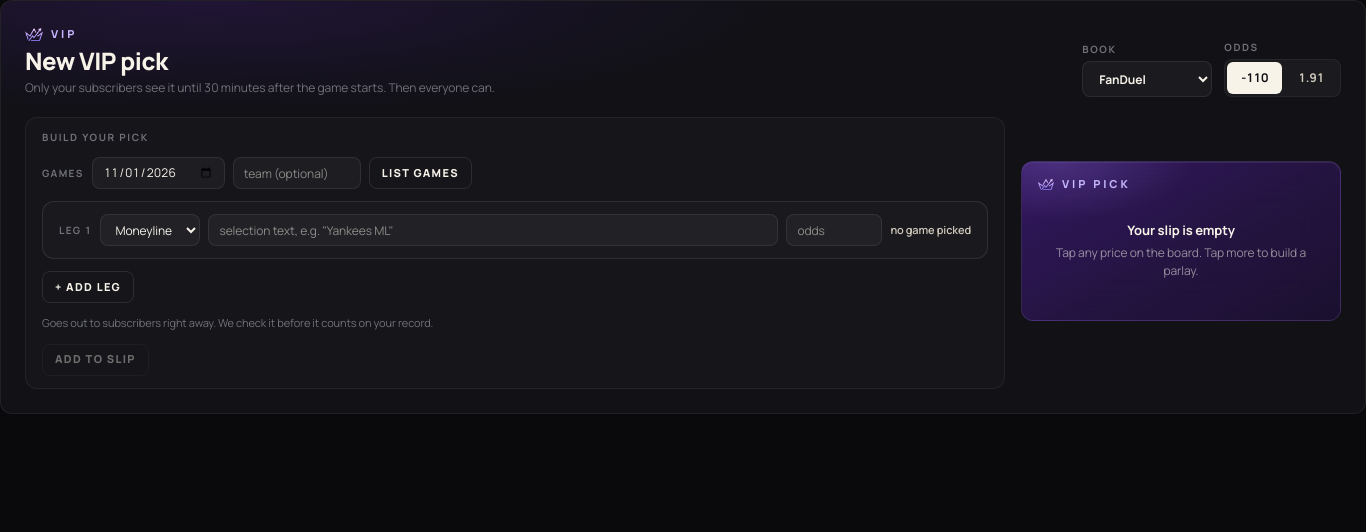
Test: PickBuilder › adds an off-board leg that posts the editor's fields
Click the button "List games": (420, 173) [369,157,472,189]
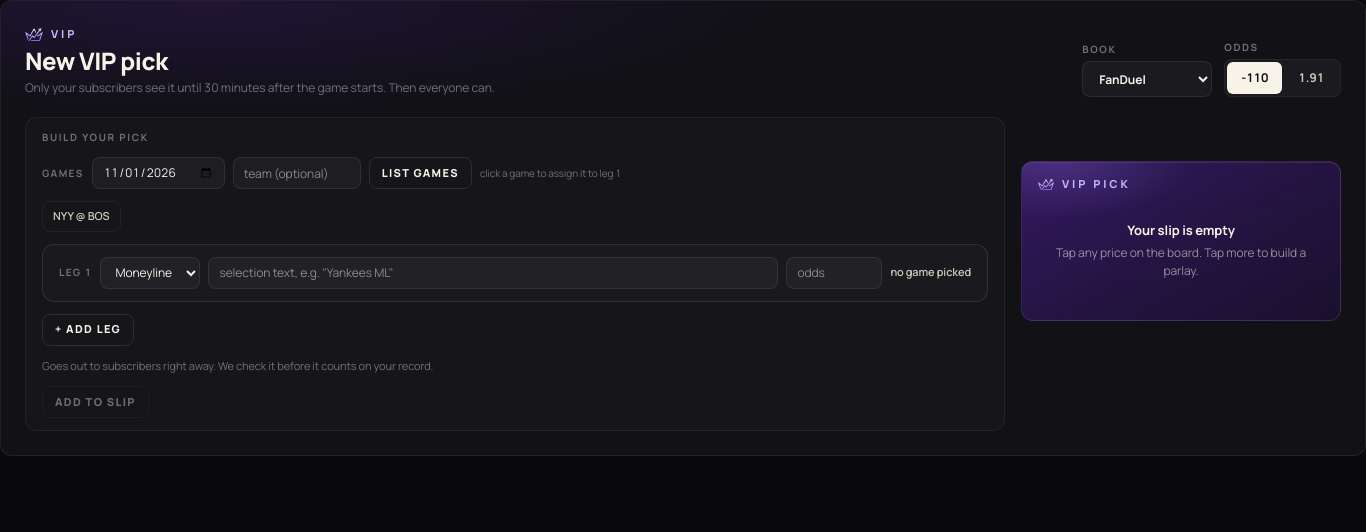
Click the button "NYY @ BOS": (81, 216) [42,201,120,232]
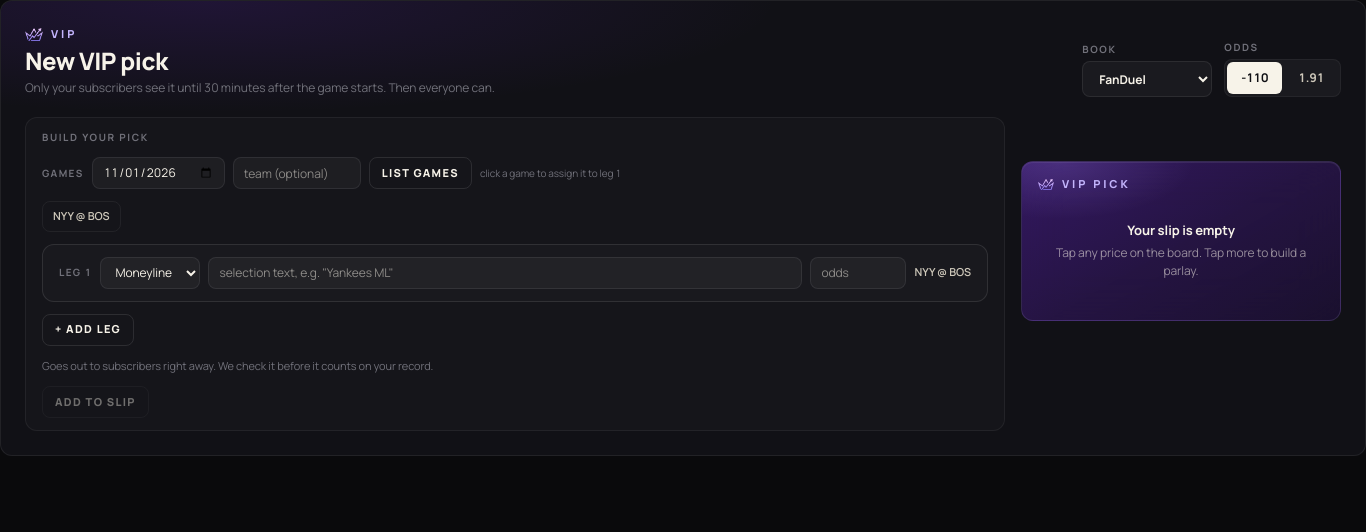
In the field named "Leg 1 selection": (505, 272) [208,256,802,288], type "NYY"
In the field named "Leg 1 odds": (858, 272) [810,256,906,288], type "+120"
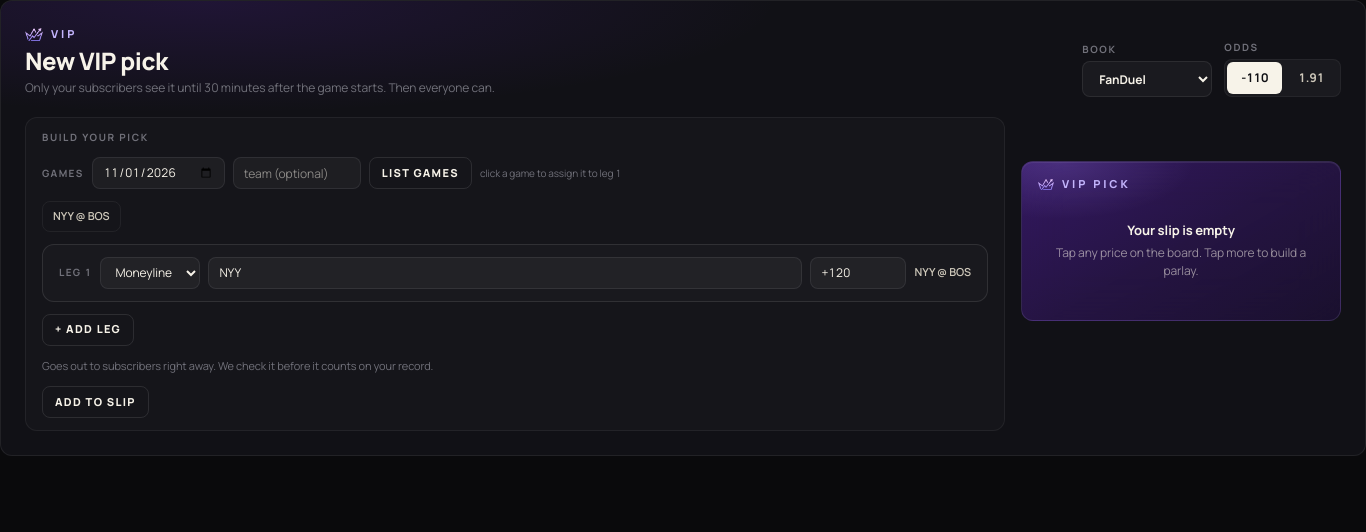
Click the button "Add to slip": (95, 402) [42,386,149,418]
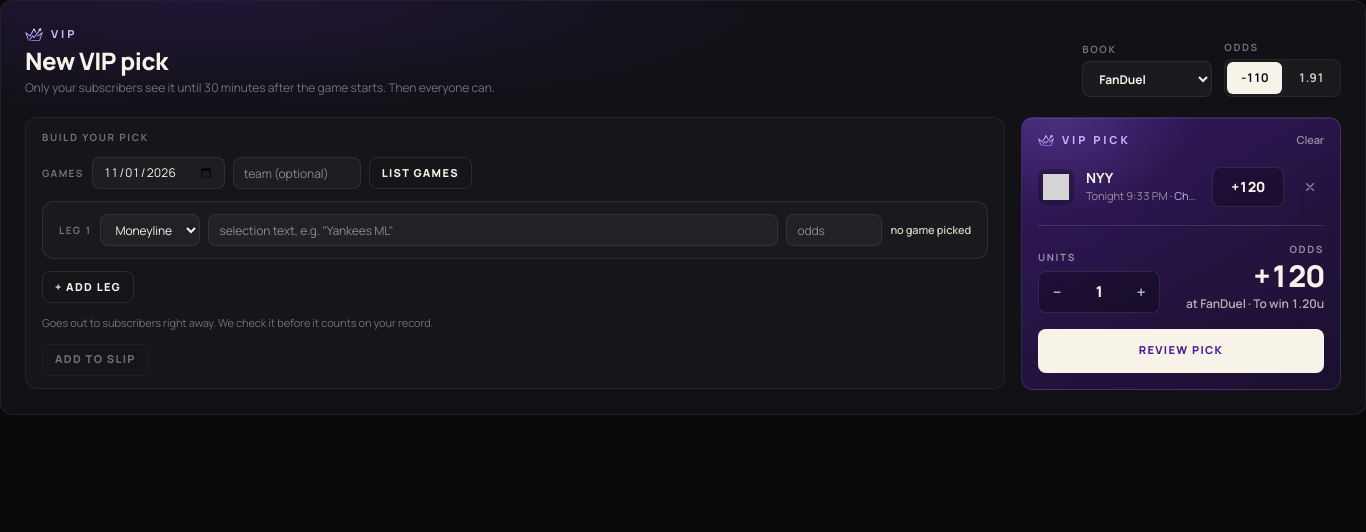
Now the field named "Price for NYY" holds "+120", box [1212,166,1284,206]
Click the button "Review pick": (1181, 350) [1038,328,1324,372]
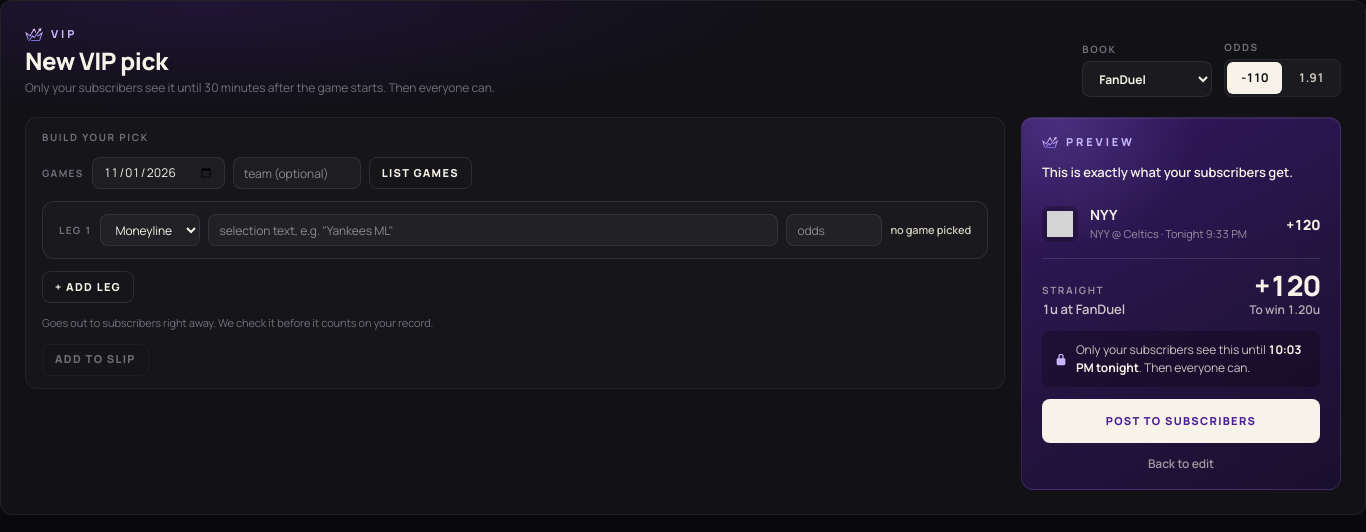
Click the button "Post to subscribers": (1181, 421) [1042,399,1320,443]
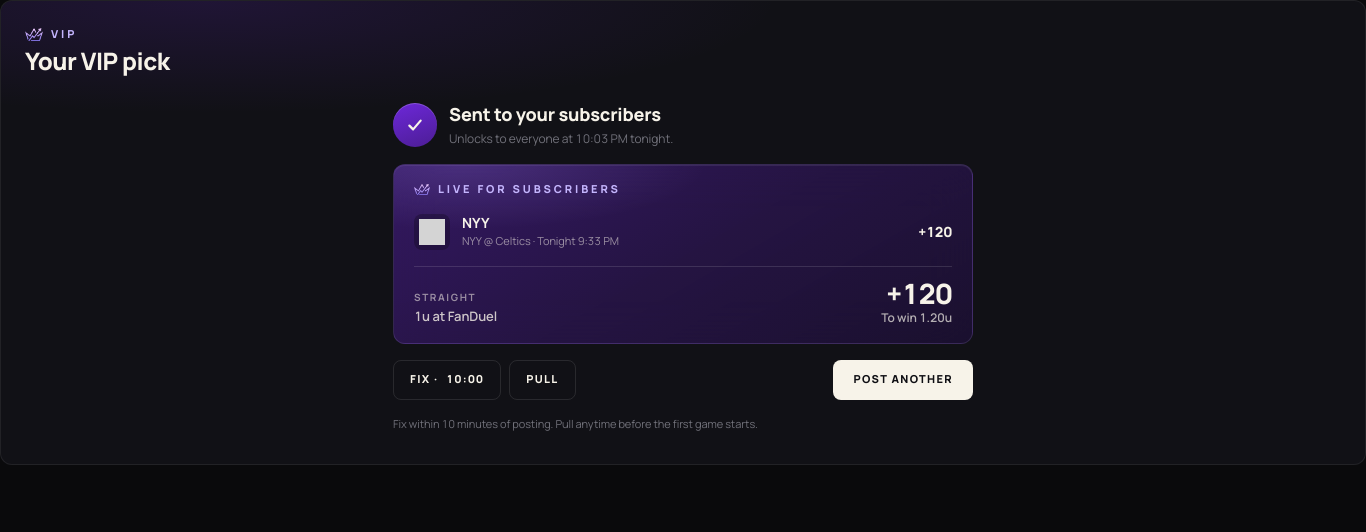
Now the text "Sent to your subscribers" is shown, box [449,101,673,128]
